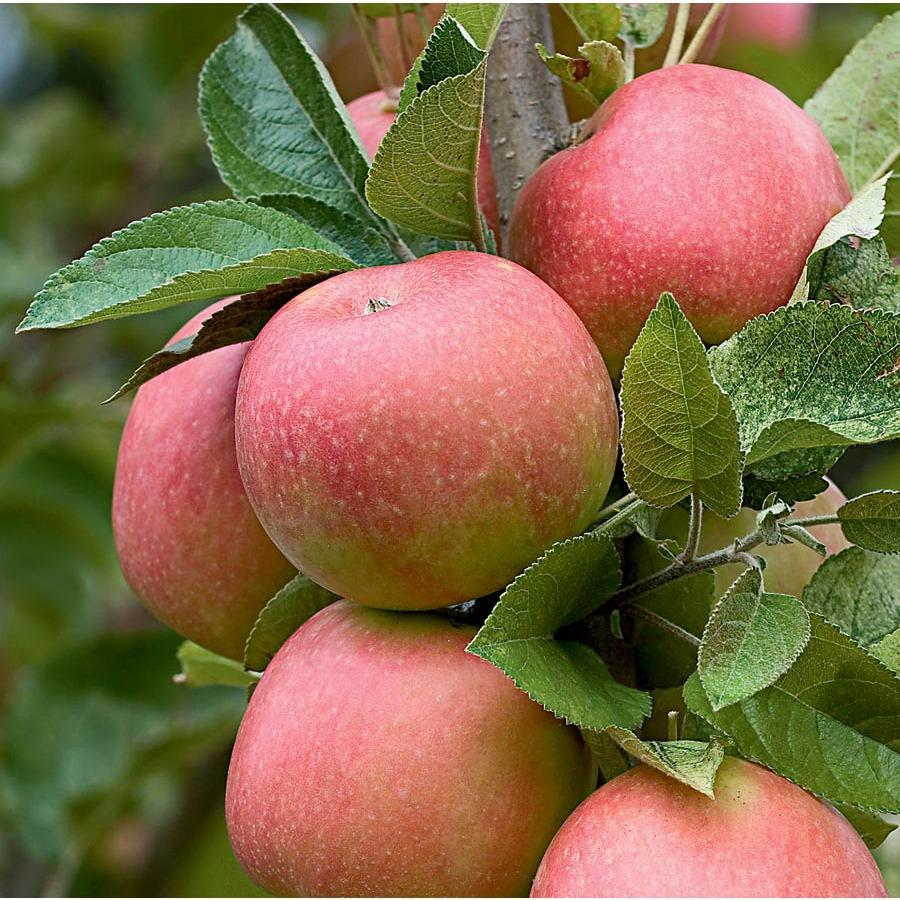apple: (224, 254, 624, 636), (514, 56, 870, 375), (226, 593, 576, 889), (112, 335, 303, 668), (526, 750, 891, 897)
